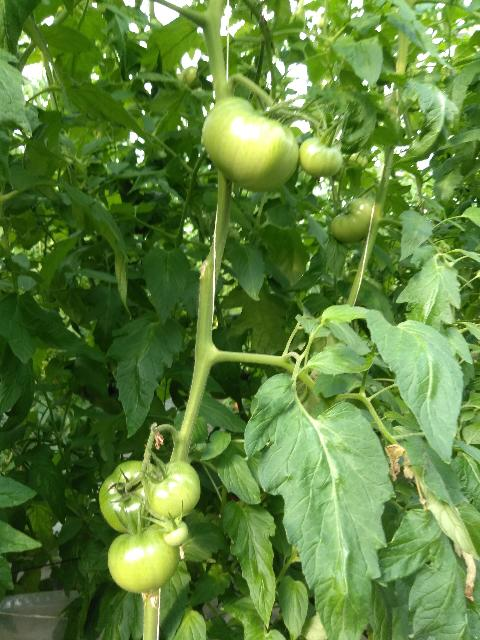b_green: (201, 97, 299, 193), (107, 523, 180, 593), (99, 460, 158, 533), (145, 460, 201, 519), (331, 198, 375, 244), (299, 136, 343, 178), (163, 520, 187, 546)
